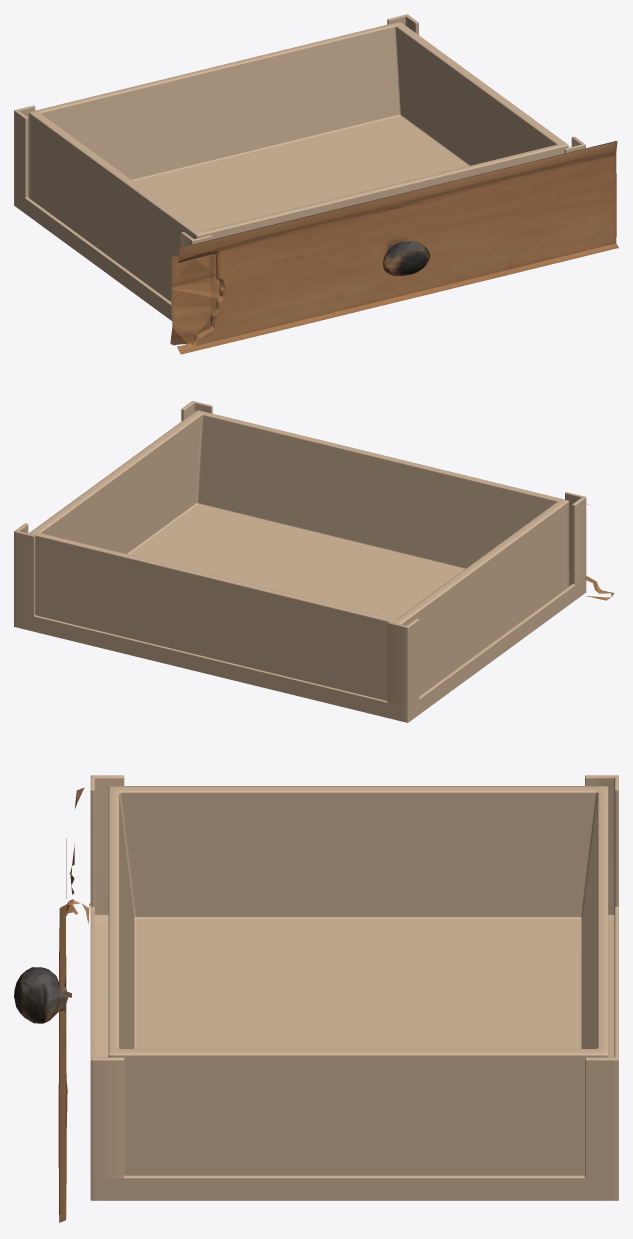
The model's file is drawer_top_right.glb.
The picture shows the model from 3 angles, top to bottom: view 1: azimuth 30°, elevation 25°; view 2: azimuth 150°, elevation 25°; view 3: azimuth 270°, elevation 25°; orthographic projection. The views are drawn at different scales.
Parts seen in each view (by area): view 1: prefab_drawer_body_2, source_front_cap_0; view 2: prefab_drawer_body_2; view 3: prefab_drawer_body_2, source_front_cap_0.
Part boxes in pixels (left/top/right/bottom): prefab_drawer_body_2: left=14, top=14, right=585, bottom=320; source_front_cap_0: left=170, top=141, right=618, bottom=354; prefab_drawer_body_2: left=14, top=401, right=586, bottom=722; prefab_drawer_body_2: left=90, top=775, right=618, bottom=1200; source_front_cap_0: left=14, top=787, right=90, bottom=1222.
Size of the model in its own units: 0.3933 by 0.0911 by 0.3181.
Materials: 2 (1 with a texture image).
